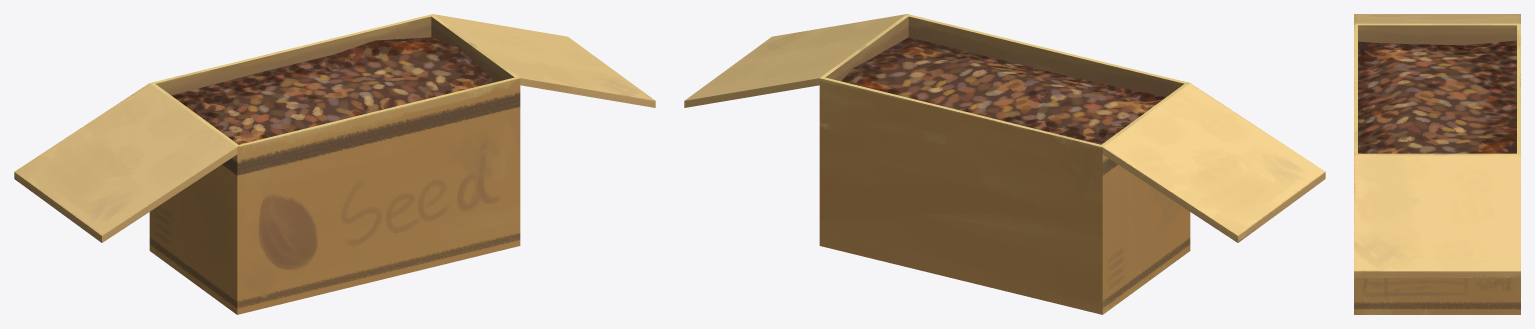
File: Seedbox.FBX
3 views of the same model, side by side, from view 1: azimuth 30°, elevation 25°; view 2: azimuth 150°, elevation 25°; view 3: azimuth 270°, elevation 25° (orthographic). The views are drawn at different scales.
Parts seen in each view (by area): view 1: Seedbox; view 2: Seedbox; view 3: Seedbox.
Part boxes in pixels (<box>): Seedbox: <box>14,14,655,314</box>; Seedbox: <box>684,14,1325,314</box>; Seedbox: <box>1354,14,1520,314</box>.
Size of the model in its own units: 308 by 89.03 by 84.39.
